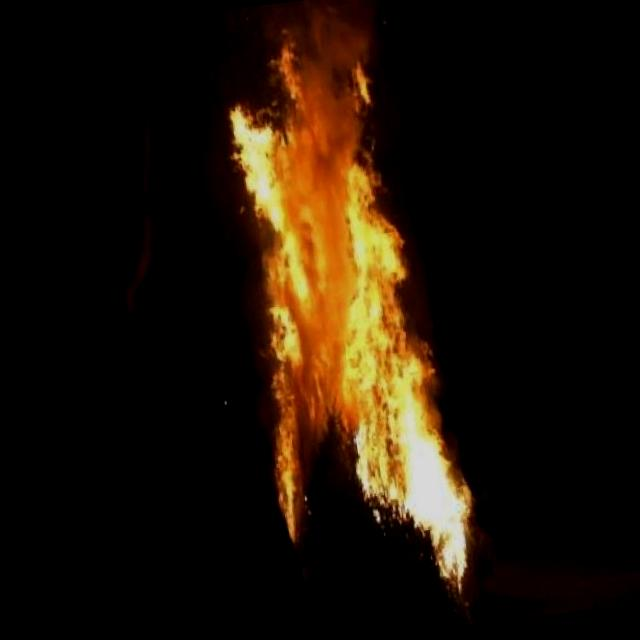fire: (177, 0, 522, 590)
